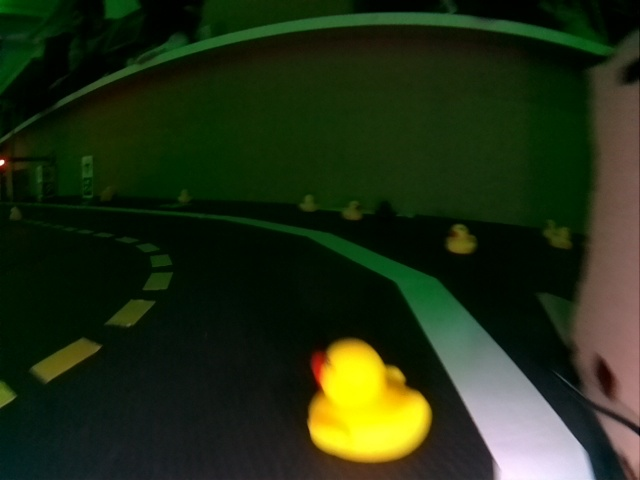Duckie: (308, 339, 430, 461), (446, 224, 475, 253), (377, 200, 396, 218), (552, 227, 570, 245), (343, 201, 359, 219), (300, 194, 315, 212), (99, 188, 113, 201), (544, 221, 554, 236), (180, 191, 190, 201)
Intersection sign: (82, 158, 92, 175)
QR code: (83, 177, 92, 196)
